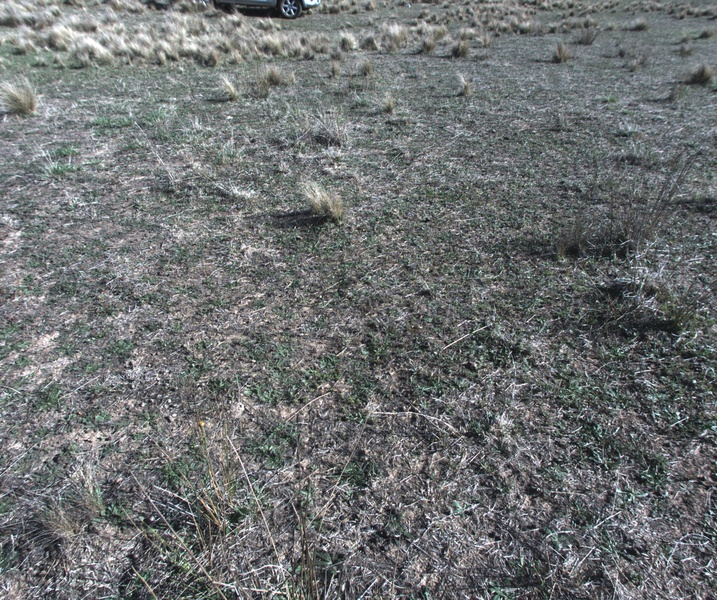st: (297, 178, 346, 223), (7, 75, 38, 117), (263, 63, 294, 92), (217, 69, 242, 99), (691, 61, 717, 84), (336, 33, 361, 53), (420, 38, 441, 61), (549, 40, 567, 66), (362, 30, 380, 54), (451, 75, 471, 95), (384, 91, 399, 117), (449, 42, 467, 59), (151, 50, 168, 67), (355, 59, 371, 76), (329, 58, 340, 78)
